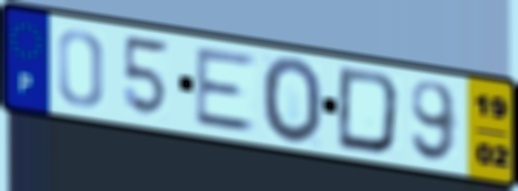0: (55, 28, 107, 110)
5: (121, 31, 173, 122)
9: (409, 79, 461, 165)
D: (333, 64, 404, 158)
E: (192, 46, 260, 136)
O: (259, 54, 326, 148)
